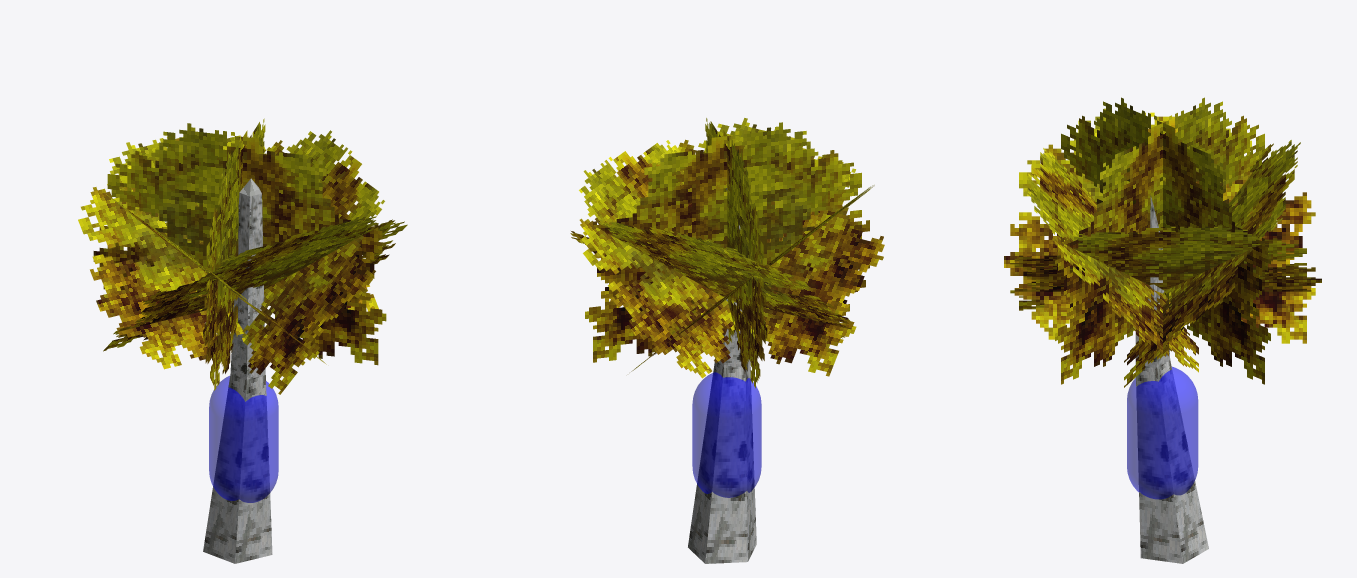
The model's file is BETA Birch Tree.glb.
The picture shows the model from 3 angles, left to right: view 1: azimuth 30°, elevation 25°; view 2: azimuth 150°, elevation 25°; view 3: azimuth 270°, elevation 25°; orthographic projection. The views are drawn at different scales.
Visible parts, largest first — view 1: Birch Tree.001, Model; view 2: Birch Tree.001, Model; view 3: Birch Tree.001, Model.
Part boxes in pixels (x1,y1,x2,y2): Birch Tree.001: (78, 118, 407, 563); Model: (209, 376, 278, 502); Birch Tree.001: (570, 118, 884, 563); Model: (692, 372, 761, 497); Birch Tree.001: (1004, 97, 1321, 563); Model: (1127, 367, 1198, 499).
Bounding box in the file's own units: 4.53 × 6.77 × 4.53.
Materials: 3 (2 with a texture image).
